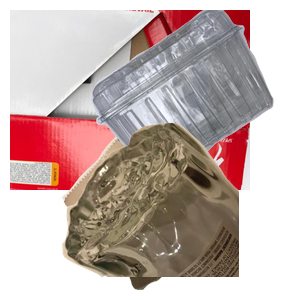cardboard: (10, 10, 250, 190)
glass: (60, 120, 300, 300)
plastic: (88, 10, 300, 180)
trash: (59, 124, 273, 300)
